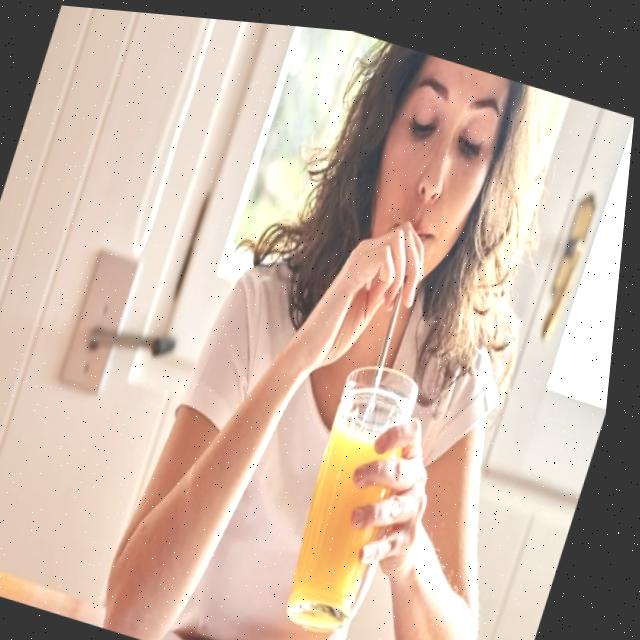eating-person: (98, 10, 640, 640)
